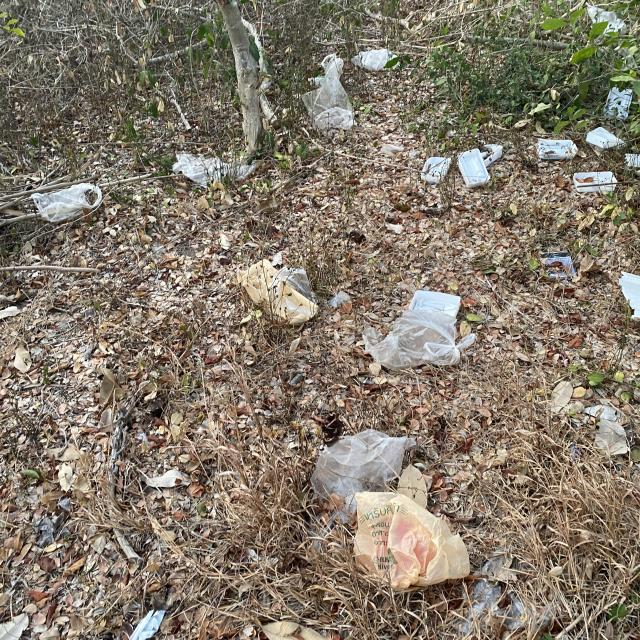Single-layer Plastic: (311, 429, 415, 521), (362, 309, 475, 370), (301, 54, 354, 130), (31, 184, 102, 222), (172, 152, 228, 188), (619, 271, 640, 319)
